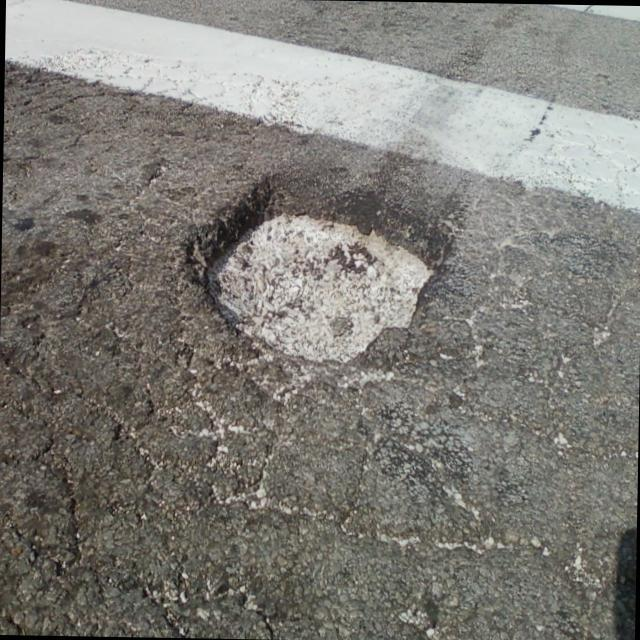Pothole: (178, 180, 452, 370)
